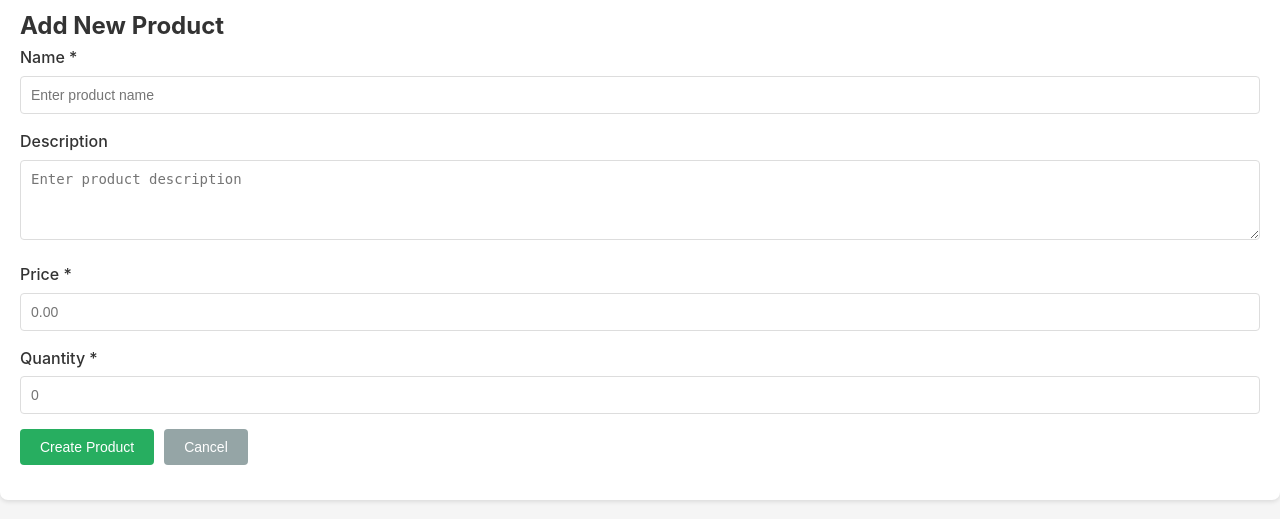
ProductForm › disables submit button when loading
In the field labelled "Name *": (640, 95) [20,76,1260,114], type "Test Product"
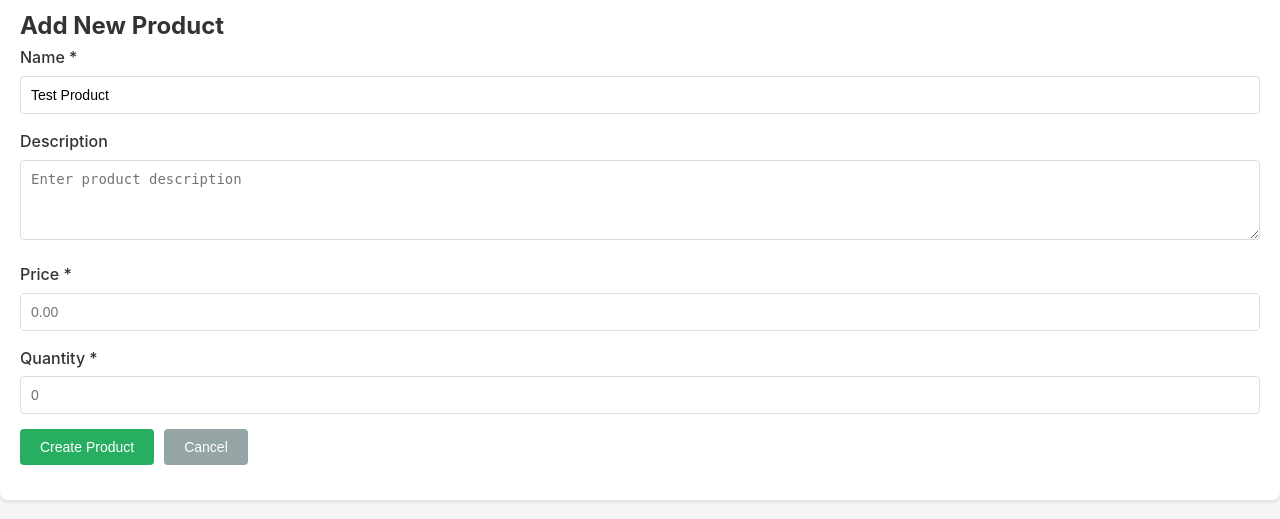
In the number field labelled "Price *": (640, 312) [20,293,1260,331], type "99.99"
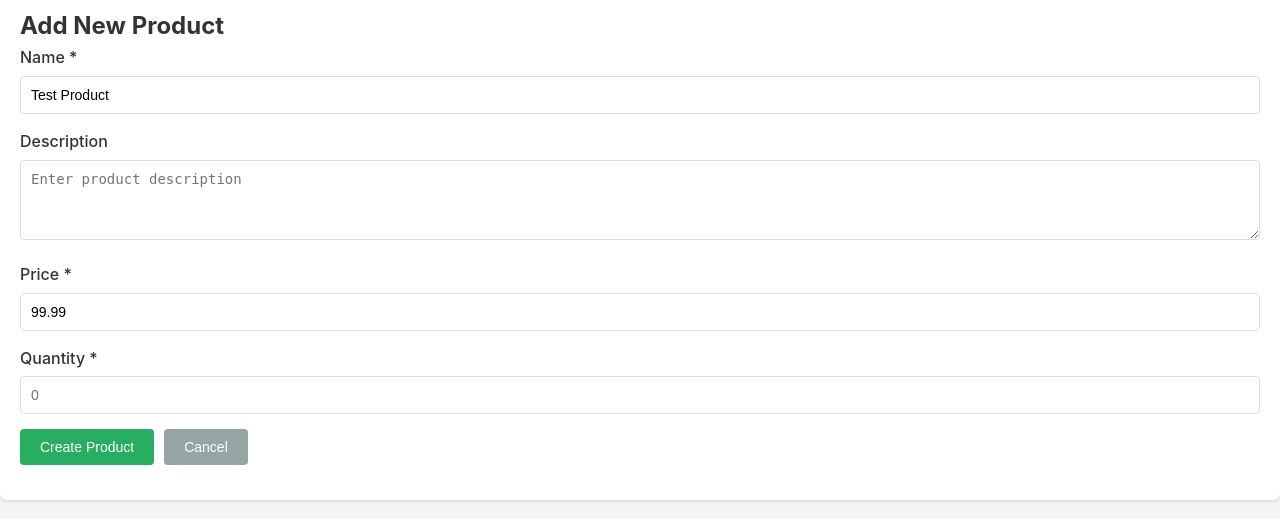
In the number field labelled "Quantity *": (640, 395) [20,376,1260,414], type "10"
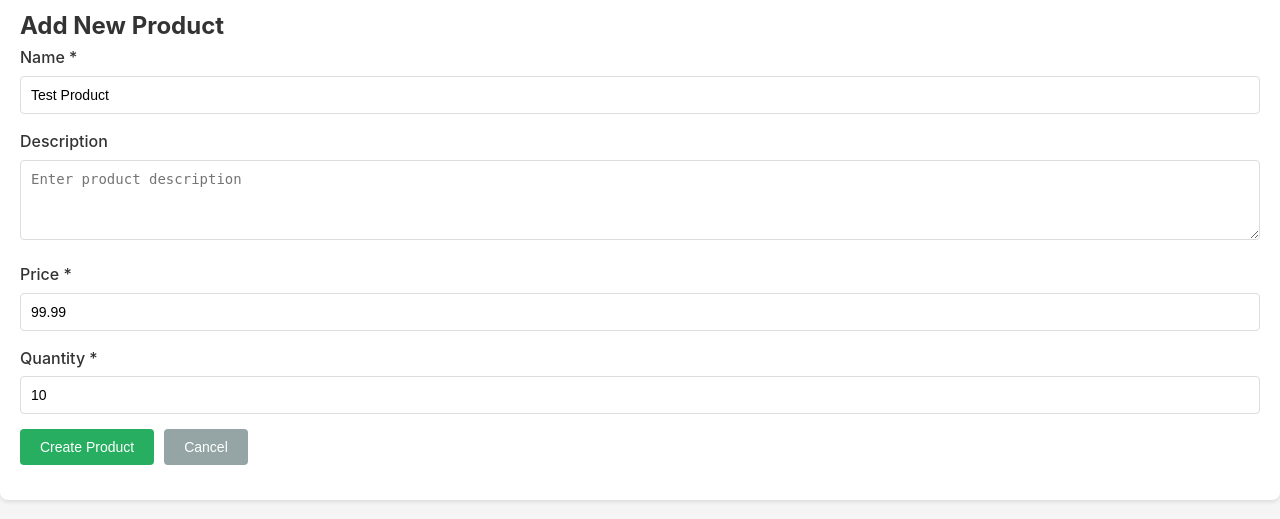
Click the button "Create Product": (87, 447) [20,429,154,465]
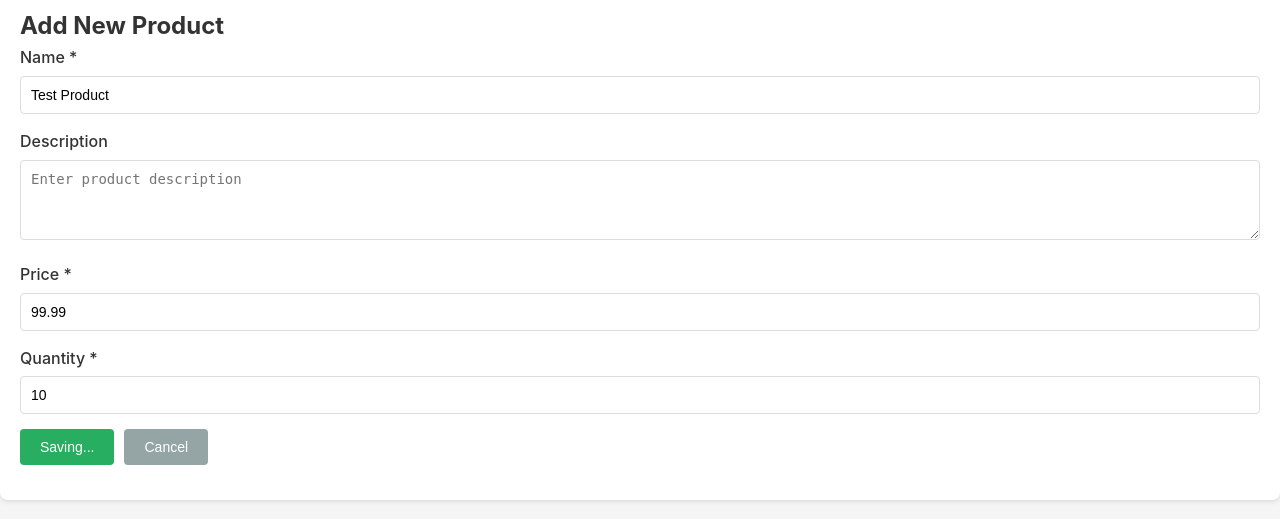
Check: the button "Create Product" is disabled, box [20,429,114,465]
